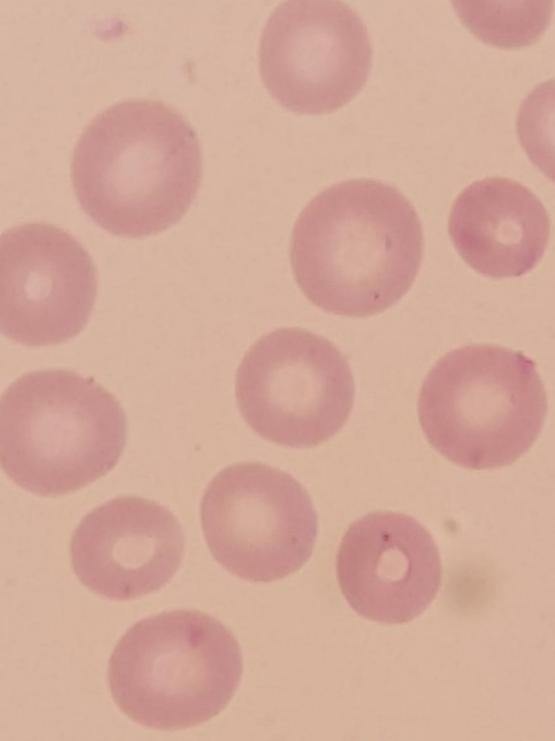Uninfected: (290, 177, 419, 314), (72, 105, 202, 234), (0, 369, 130, 498), (418, 345, 542, 472), (102, 615, 235, 731), (234, 327, 357, 448), (198, 461, 318, 584), (264, 0, 377, 117), (334, 509, 441, 624), (70, 497, 182, 601), (447, 173, 549, 282), (6, 221, 93, 348)
